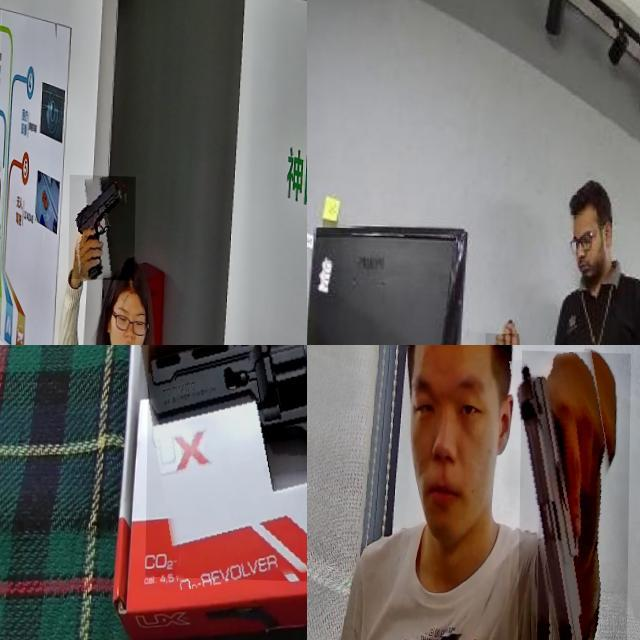gun-knife-thesis - v11 Yolov5 augmented: (147, 345, 307, 583), (518, 347, 631, 640), (70, 172, 136, 278)
